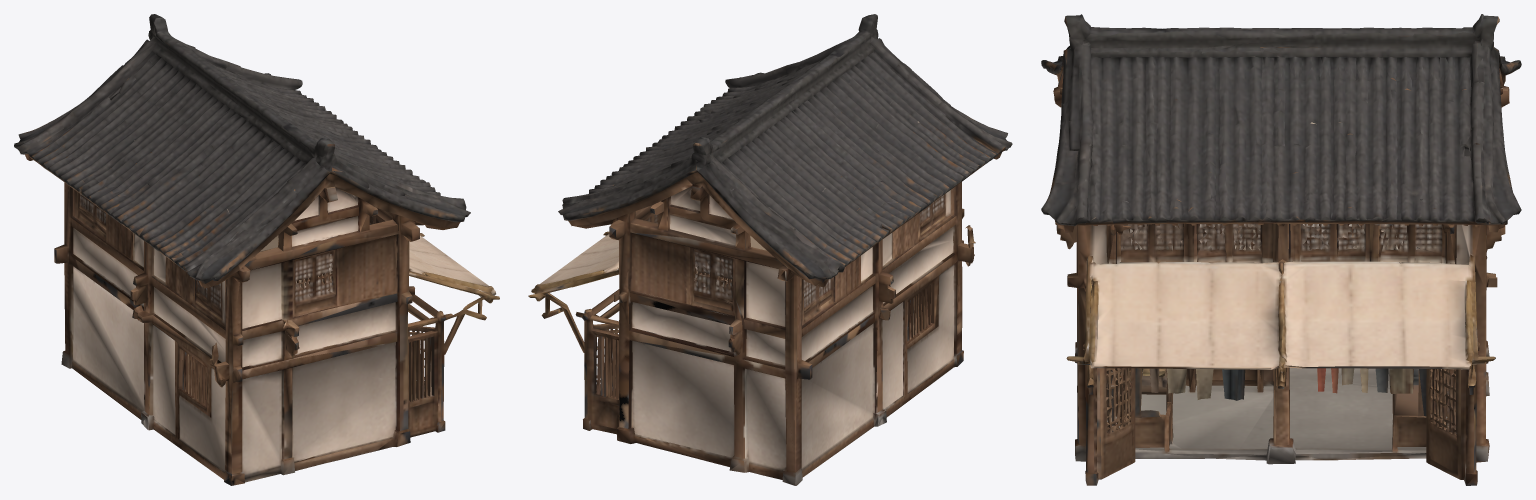
Rendered from 08_Cloth_Dye_Shop_LOD1.fbx.
The picture shows the model from 3 angles, left to right: view 1: azimuth 30°, elevation 25°; view 2: azimuth 150°, elevation 25°; view 3: azimuth 270°, elevation 25°; orthographic projection. The views are drawn at different scales.
Parts seen in each view (by area): view 1: 08_Cloth_Dye_Shop_L1; view 2: 08_Cloth_Dye_Shop_L1; view 3: 08_Cloth_Dye_Shop_L1.
Boxes of the visible parts, left/top/right/bottom form: 08_Cloth_Dye_Shop_L1: left=14, top=14, right=499, bottom=485; 08_Cloth_Dye_Shop_L1: left=528, top=14, right=1012, bottom=485; 08_Cloth_Dye_Shop_L1: left=1041, top=14, right=1521, bottom=485.
Size of the model in its own units: 8.32 by 8 by 8.75.
